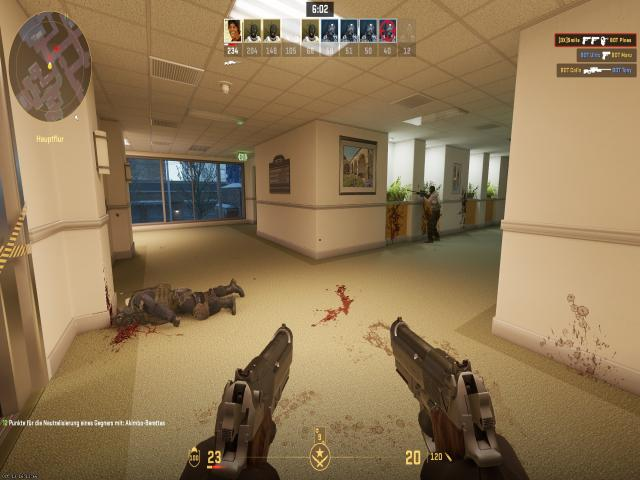Dead: (113, 282, 242, 330)
T: (426, 182, 444, 243)
T-Head: (429, 184, 436, 195)
